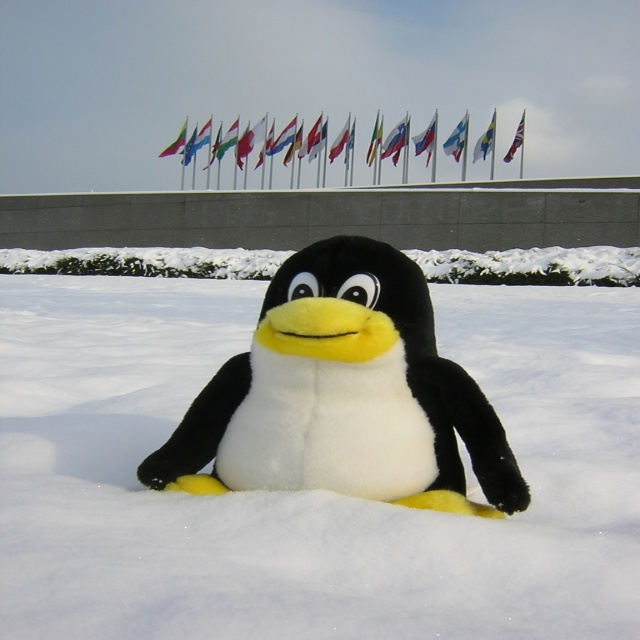Penguin: (134, 233, 529, 517)
